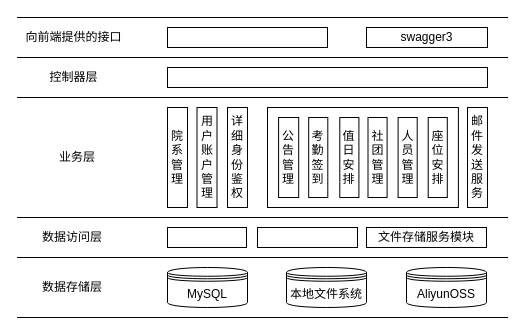
This 525x335 diagram has some shape labels left out. The shapes that lost their labels are listed below. From the top down, each one's box as (x1, y1, x2, y2) in pixels, then its label:
(166, 26, 328, 48): API接口
(166, 66, 488, 88): Sa-Token
(266, 106, 458, 208): 社 团 业 务 模 块
(166, 226, 246, 248): mybatis-plus
(256, 226, 358, 248): Caffeine
